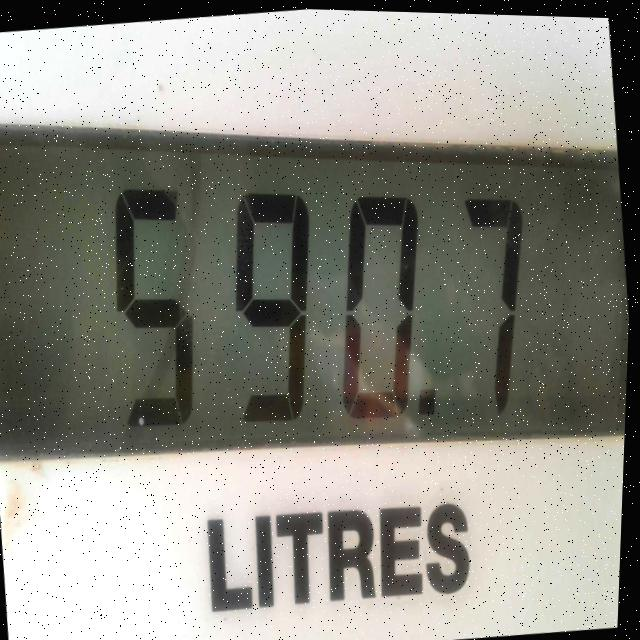.: (408, 367, 454, 434)
0: (313, 175, 444, 420)
5: (93, 176, 224, 448)
7: (438, 167, 553, 419)
9: (211, 175, 347, 443)
